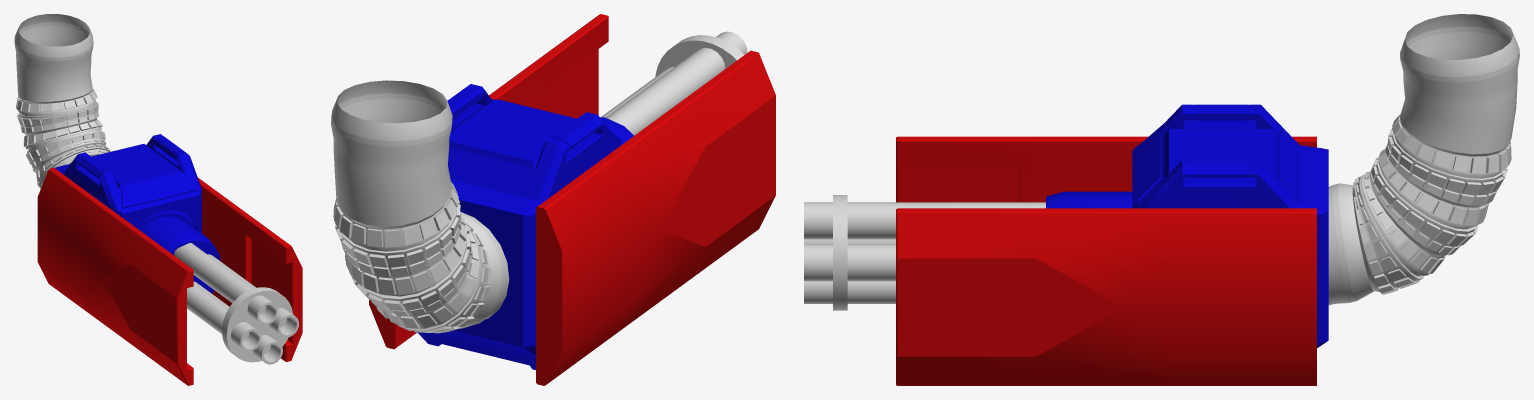
The model's file is turret_v2.fbx.
3 renders of one model, left to right at view 1: azimuth 30°, elevation 25°; view 2: azimuth 150°, elevation 25°; view 3: azimuth 270°, elevation 25°, orthographic. The views are drawn at different scales.
Visible parts, largest first — view 1: Cube.014, Cube.002, Cube.001; view 2: Cube.014, Cube.002, Cube.001; view 3: Cube.014, Cube.002, Cube.001.
Boxes of the visible parts, <box> form: Cube.014: <box>37,134,302,385</box>; Cube.002: <box>14,14,110,188</box>; Cube.001: <box>174,243,298,364</box>; Cube.014: <box>369,14,775,385</box>; Cube.002: <box>331,80,509,333</box>; Cube.001: <box>601,31,747,135</box>; Cube.014: <box>896,104,1328,385</box>; Cube.002: <box>1328,14,1519,305</box>; Cube.001: <box>804,195,1045,310</box>.
Size of the model in its own units: 0.8233 by 1.32 by 2.69.
